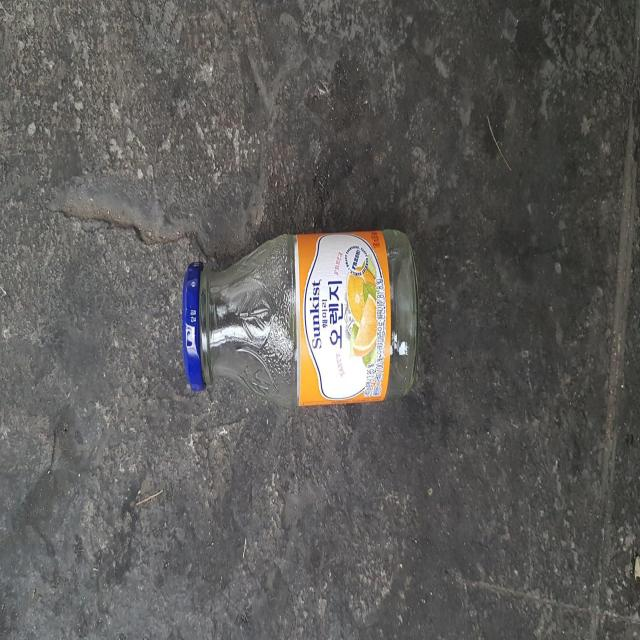glass: (182, 229, 419, 407)
